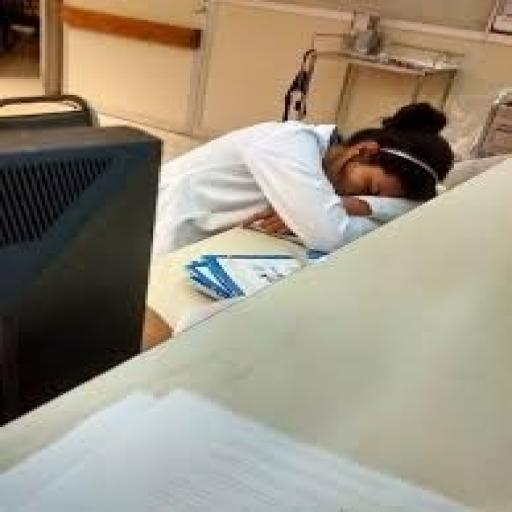sleeping: (140, 99, 459, 350)
